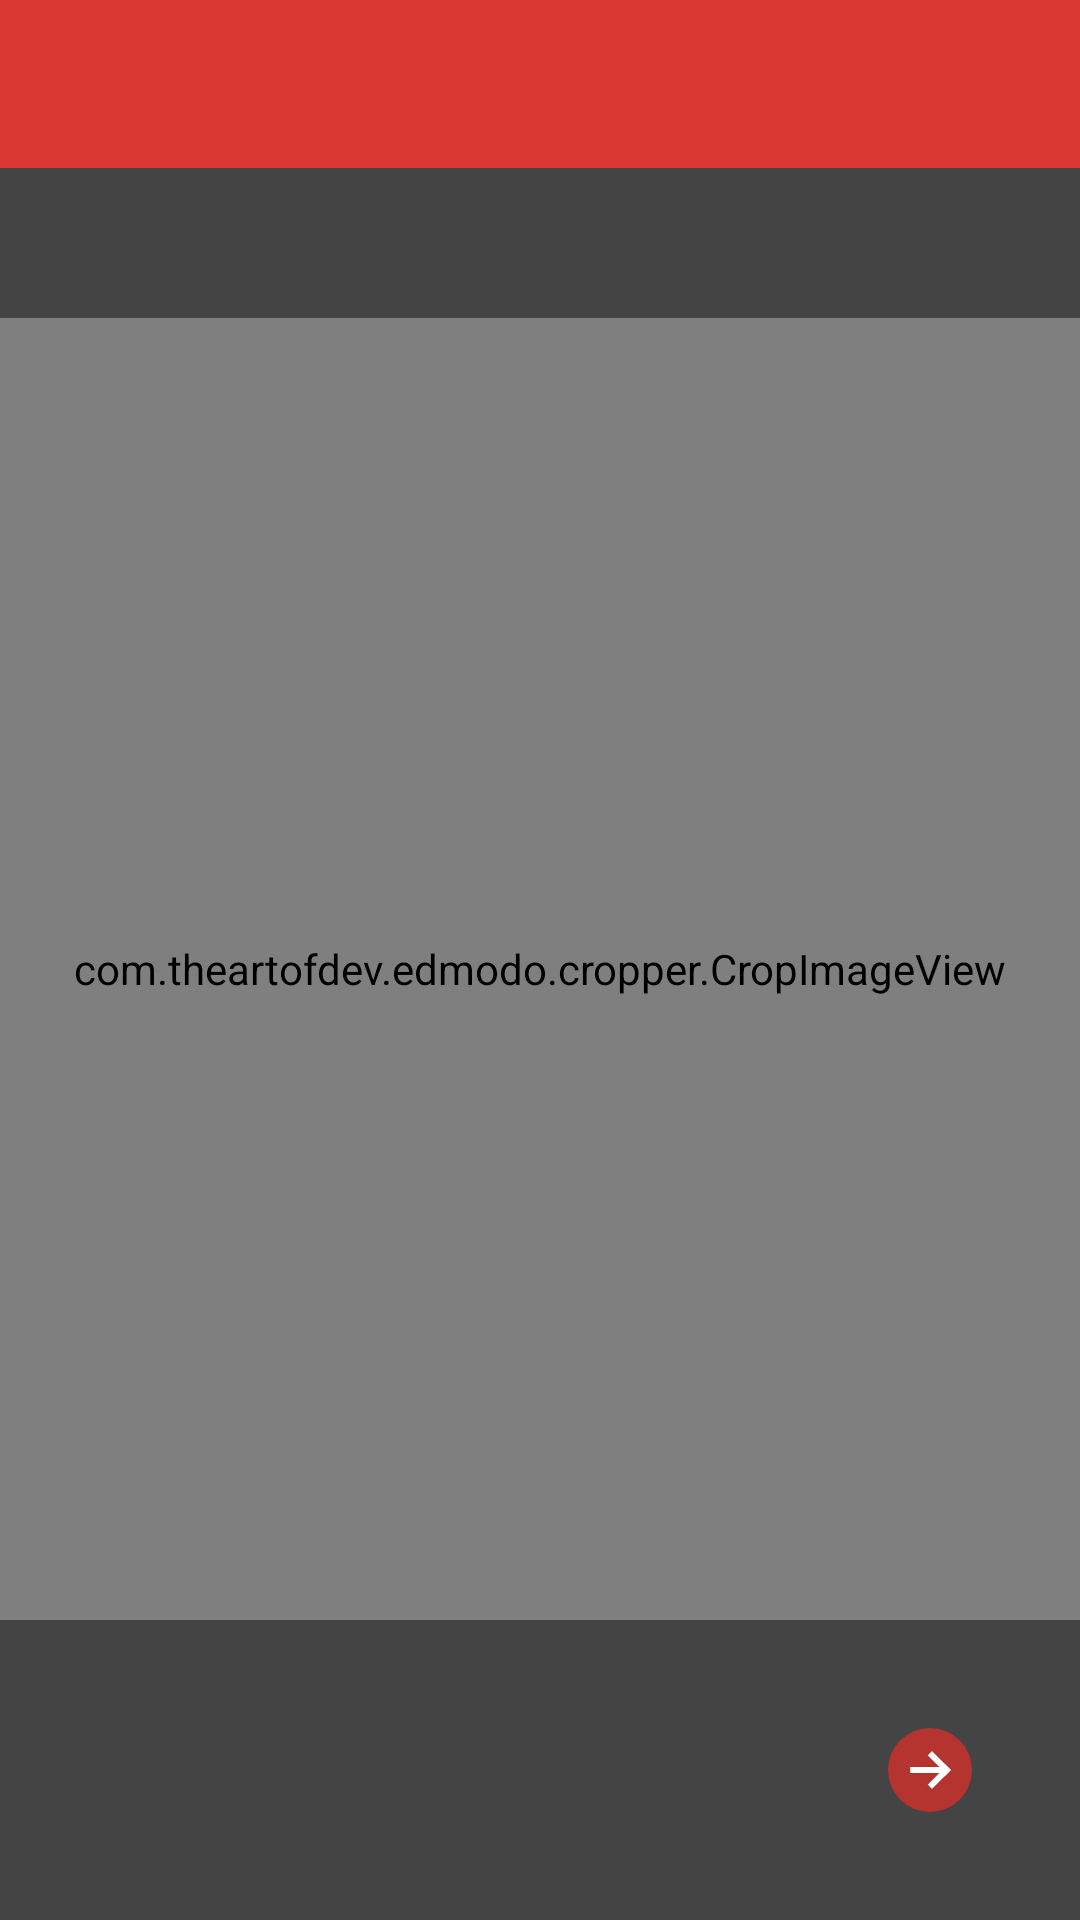

Where icons sit on this 1080w x 1920h app screen, as (x1, y1, x2, y2):
next: (888, 1728, 972, 1812)
